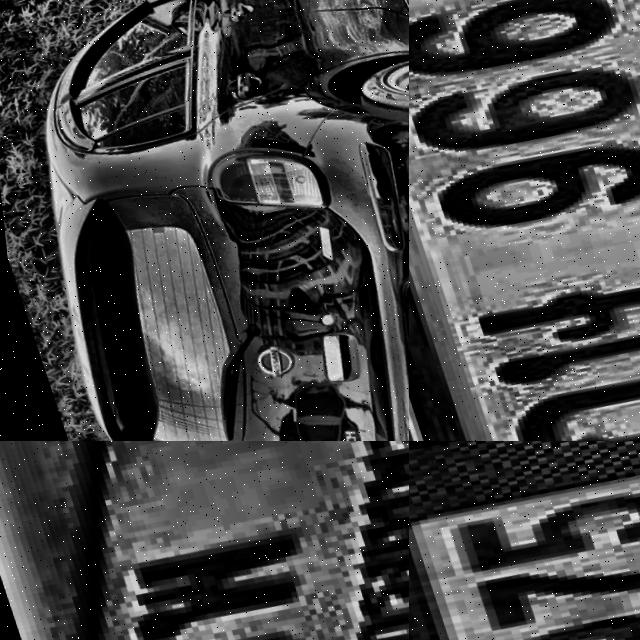license-plate: (409, 0, 640, 441), (0, 441, 409, 640), (409, 441, 640, 640), (368, 286, 409, 414)
